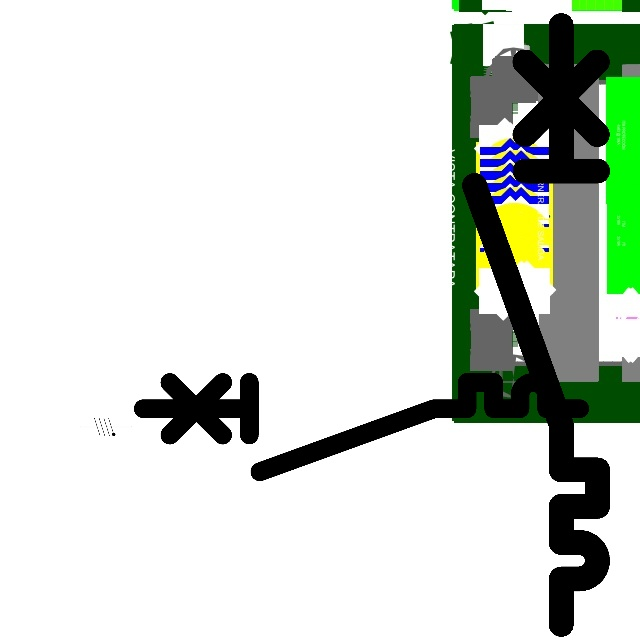interruptor_termomagnetico: (459, 10, 613, 640), (131, 371, 590, 483)
